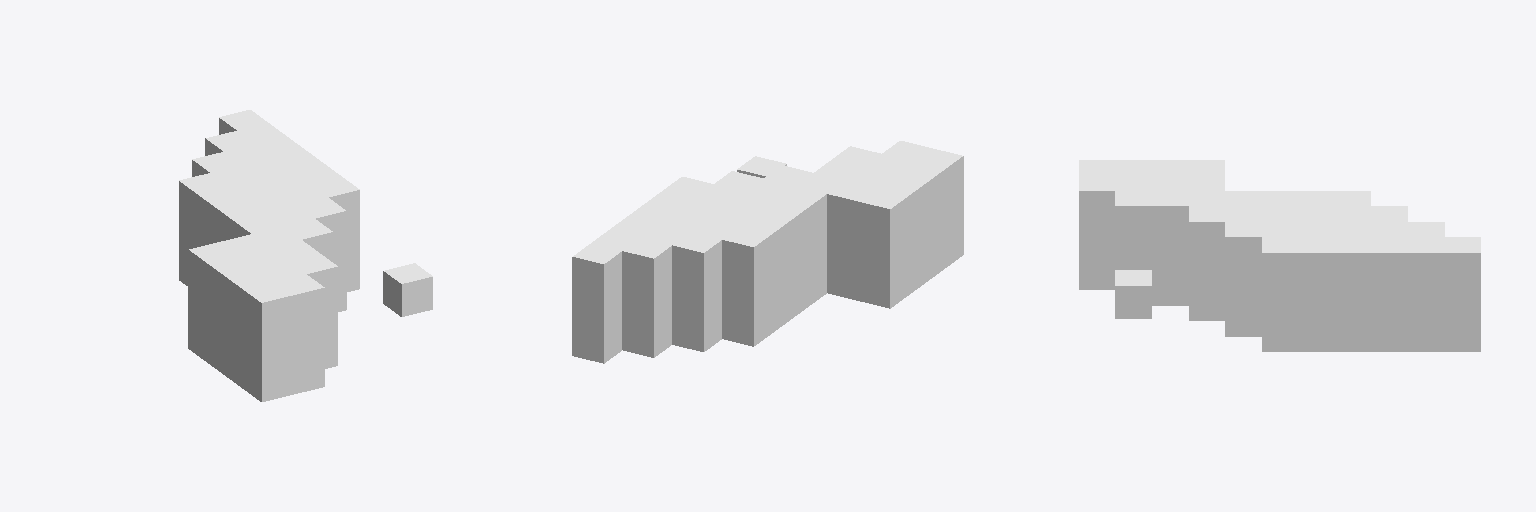
The model's file is NavePart3.obj.
3 views of the same model, side by side, from view 1: azimuth 30°, elevation 25°; view 2: azimuth 150°, elevation 25°; view 3: azimuth 270°, elevation 25° (orthographic).
Parts seen in each view (by area): view 1: object 1; view 2: object 1; view 3: object 1.
Part boxes in pixels (x1,y1,x2,y2): object 1: (179,110,432,401); object 1: (572,141,963,363); object 1: (1079,160,1480,351).
Size of the model in its own units: 0.6 by 0.3 by 1.1.